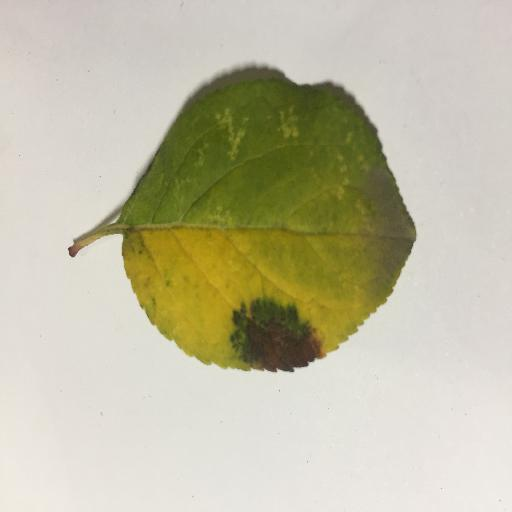Brown_Spot: (233, 304, 318, 370)
